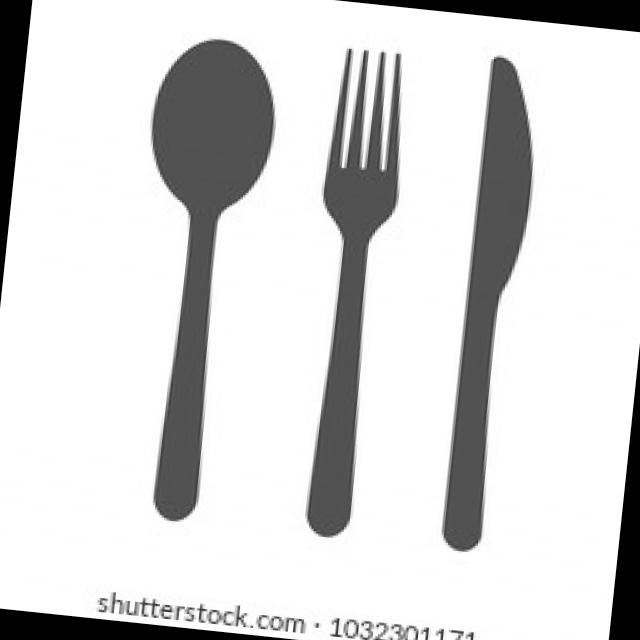fork: (283, 43, 416, 541)
